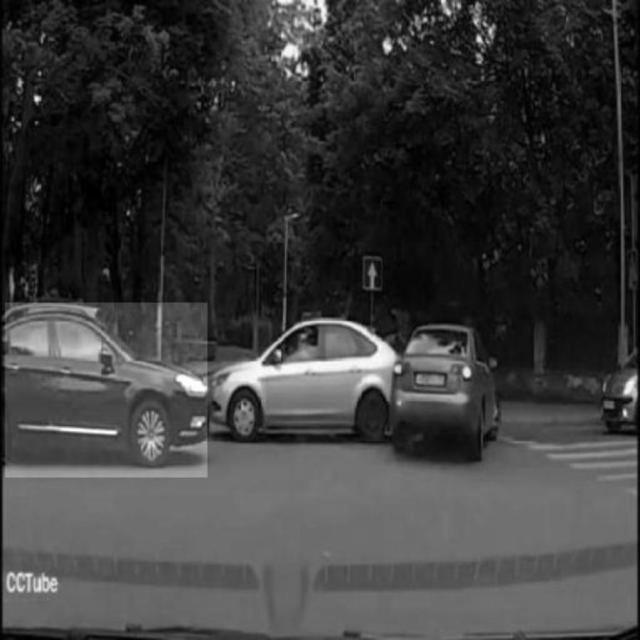accident: (211, 321, 499, 458)
vehicle: (4, 302, 208, 477)
